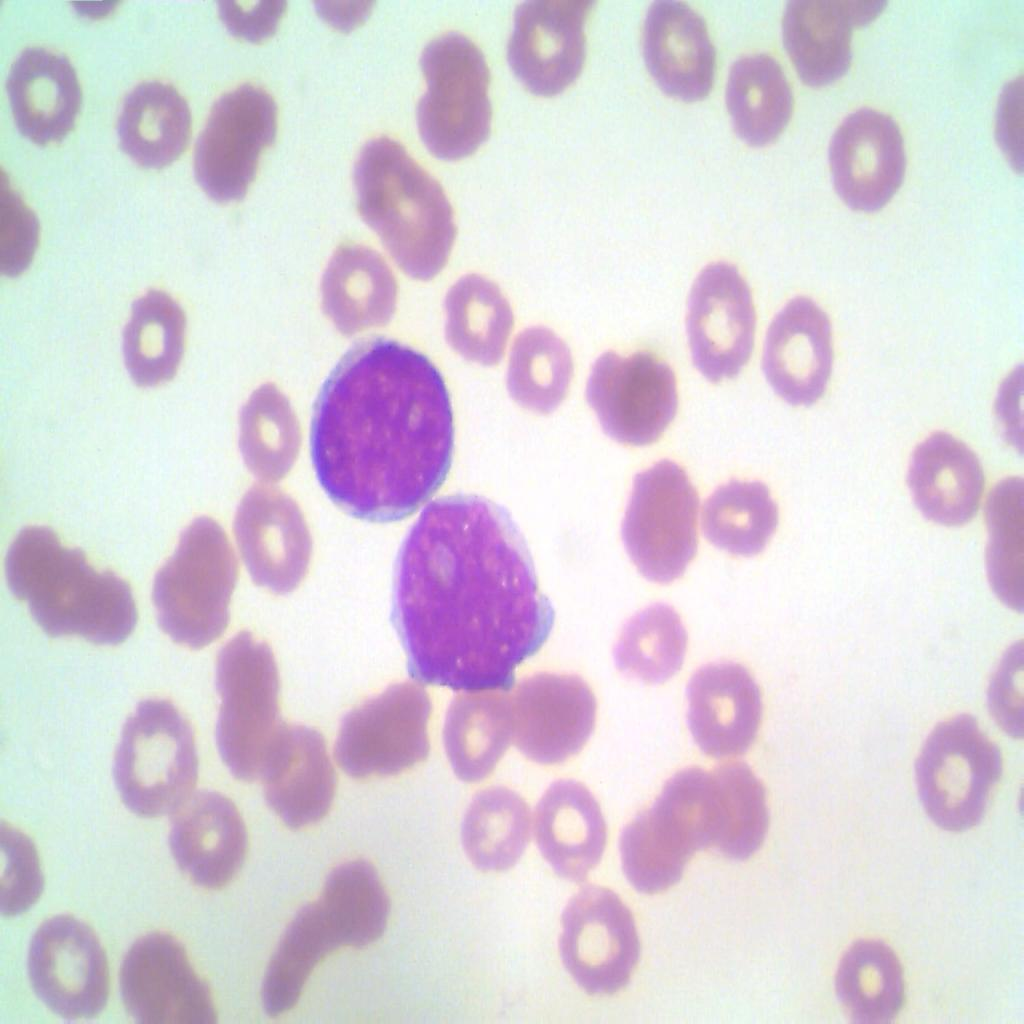Eritrosit: (350, 125, 458, 287), (101, 688, 206, 823), (183, 82, 284, 216), (598, 445, 698, 578), (329, 674, 436, 787), (918, 701, 998, 848), (548, 877, 642, 997), (664, 648, 766, 758), (298, 228, 400, 337), (113, 274, 198, 394), (21, 911, 109, 1023), (451, 772, 539, 884), (636, 0, 726, 109), (679, 258, 758, 382), (311, 850, 395, 964), (164, 787, 251, 897), (756, 296, 839, 410), (829, 112, 915, 221), (0, 42, 86, 150), (909, 424, 991, 536), (611, 588, 699, 692), (226, 482, 311, 589), (260, 721, 338, 837), (586, 346, 678, 444), (501, 2, 583, 111), (774, 0, 866, 94), (504, 668, 596, 762), (716, 44, 796, 150), (258, 898, 330, 1015), (698, 752, 771, 864), (529, 778, 609, 879), (114, 924, 195, 1023), (228, 374, 301, 479), (204, 690, 290, 779), (438, 680, 519, 774), (111, 81, 194, 171), (152, 547, 226, 644), (654, 758, 728, 854), (166, 512, 242, 605), (615, 814, 694, 900), (441, 269, 510, 367), (498, 327, 576, 412), (66, 562, 138, 654), (836, 938, 908, 1023), (415, 17, 488, 100), (30, 548, 90, 642), (210, 628, 284, 704), (414, 82, 494, 151), (704, 479, 778, 551), (0, 520, 61, 600)
Limfoblast: (389, 500, 563, 691), (304, 332, 456, 520)
